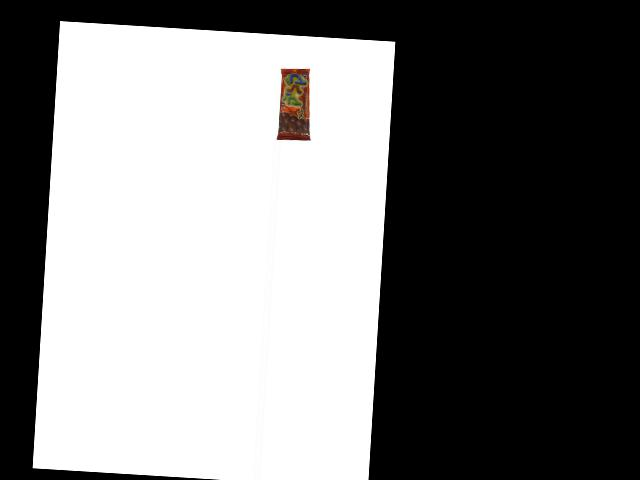chocolate: (276, 67, 313, 141)
